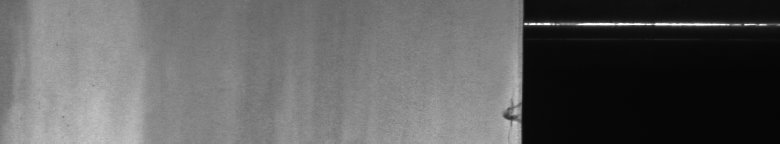hb: (498, 92, 512, 130)
